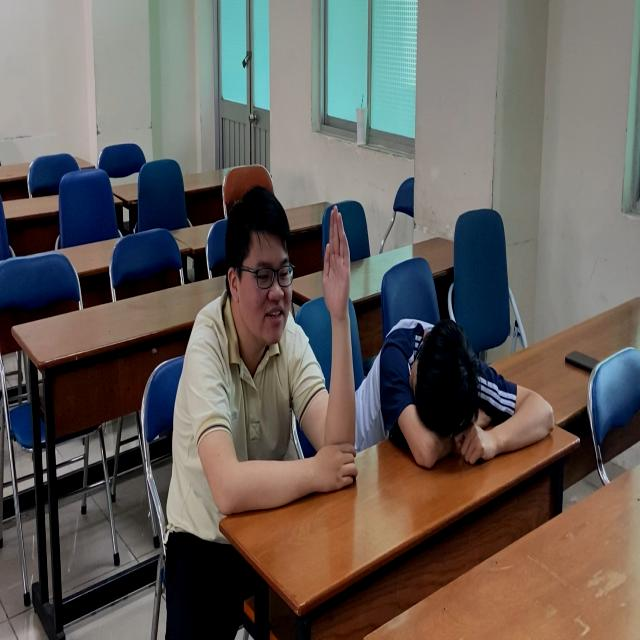raise_hand: (170, 184, 358, 525)
sleep: (369, 301, 558, 475)
